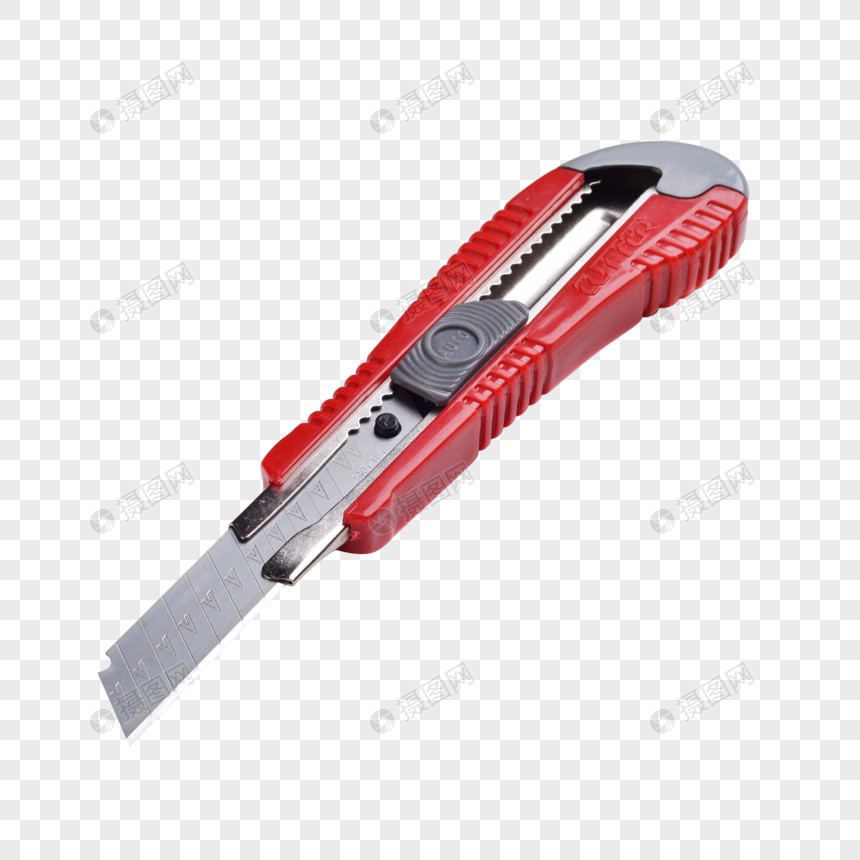cutter: (96, 141, 750, 741)
